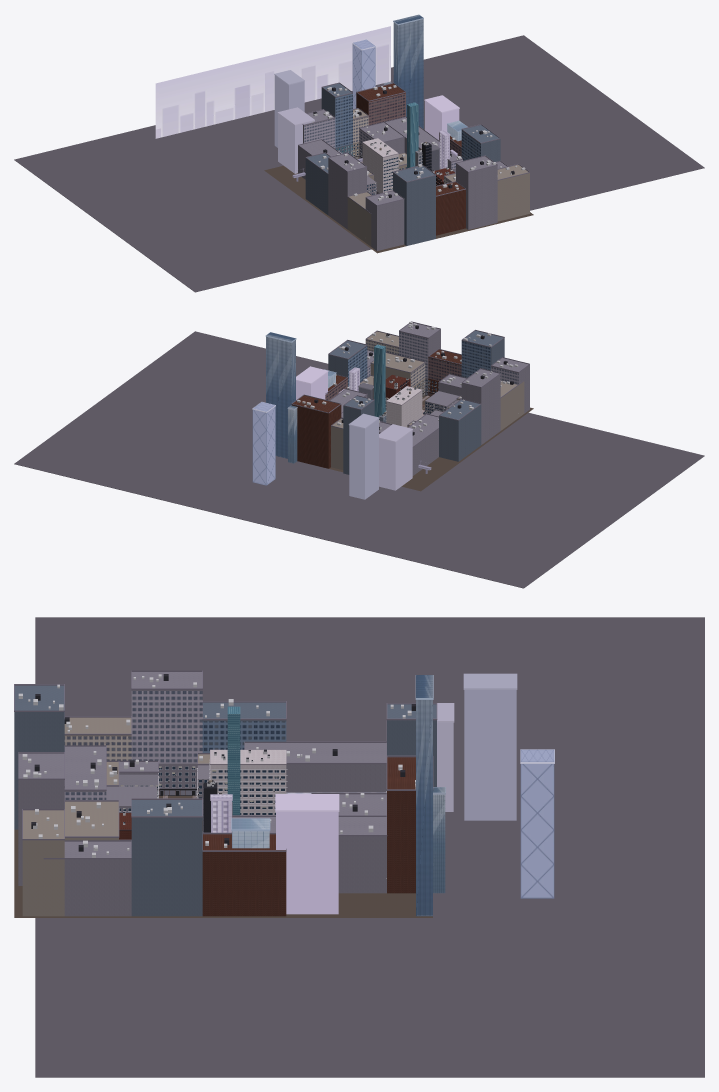
Rendered from street-1-day.glb.
3 views of the same model, one above another, from view 1: azimuth 30°, elevation 25°; view 2: azimuth 150°, elevation 25°; view 3: azimuth 270°, elevation 25° (orthographic). The views are drawn at different scales.
Visible parts, largest first — view 1: object 257, object 256, object 207, object 219, object 228, object 232, object 230, object 217, object 227, object 177, object 236, object 19 (+7 smaller); view 2: object 257, object 207, object 219, object 230, object 228, object 232, object 252, object 236, object 217, object 250, object 227, object 177 (+9 smaller); view 3: object 257, object 207, object 219, object 230, object 228, object 252, object 248, object 216, object 236, object 217, object 232, object 19 (+14 smaller).
Part boxes in pixels (bbox=[...]): object 257: bbox=[14, 35, 704, 292]; object 256: bbox=[155, 26, 390, 138]; object 207: bbox=[298, 110, 506, 250]; object 219: bbox=[305, 83, 500, 245]; object 228: bbox=[347, 108, 529, 246]; object 232: bbox=[393, 14, 423, 128]; object 230: bbox=[356, 83, 465, 235]; object 217: bbox=[298, 82, 529, 213]; object 227: bbox=[335, 94, 480, 160]; object 177: bbox=[362, 138, 398, 193]; object 236: bbox=[352, 39, 375, 108]; object 19: bbox=[264, 165, 533, 253]; object 257: bbox=[14, 331, 704, 588]; object 207: bbox=[330, 322, 529, 475]; object 219: bbox=[328, 330, 504, 474]; object 230: bbox=[292, 349, 461, 468]; object 228: bbox=[331, 331, 524, 469]; object 232: bbox=[266, 332, 295, 458]; object 252: bbox=[349, 419, 378, 499]; object 236: bbox=[252, 402, 275, 485]; object 217: bbox=[291, 321, 529, 447]; object 250: bbox=[379, 430, 412, 490]; object 227: bbox=[348, 341, 490, 386]; object 177: bbox=[386, 386, 422, 427]; object 257: bbox=[35, 617, 704, 1077]; object 207: bbox=[18, 672, 386, 916]; object 219: bbox=[14, 685, 436, 916]; object 230: bbox=[202, 757, 415, 916]; object 228: bbox=[22, 717, 209, 916]; object 252: bbox=[464, 690, 516, 820]; object 248: bbox=[276, 812, 338, 914]; object 216: bbox=[64, 691, 202, 799]; object 236: bbox=[520, 749, 554, 898]; object 217: bbox=[14, 670, 437, 859]; object 232: bbox=[416, 675, 432, 916]; object 19: bbox=[14, 796, 432, 917].
Bounding box in the file's own units: 520 × 121 × 330.
Materials: 294 (99 with a texture image).
